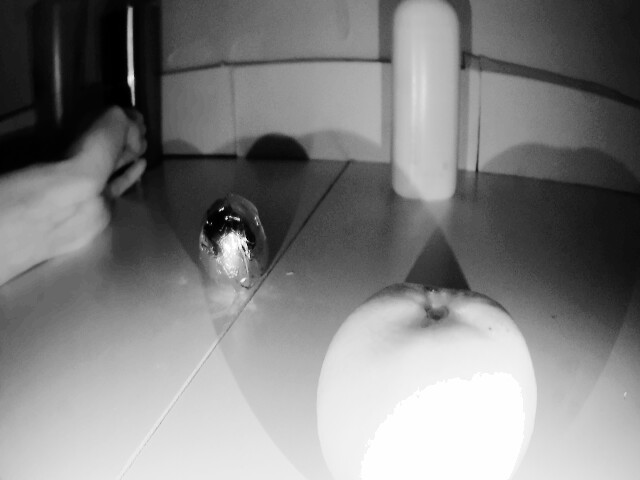black: (199, 198, 272, 300)
